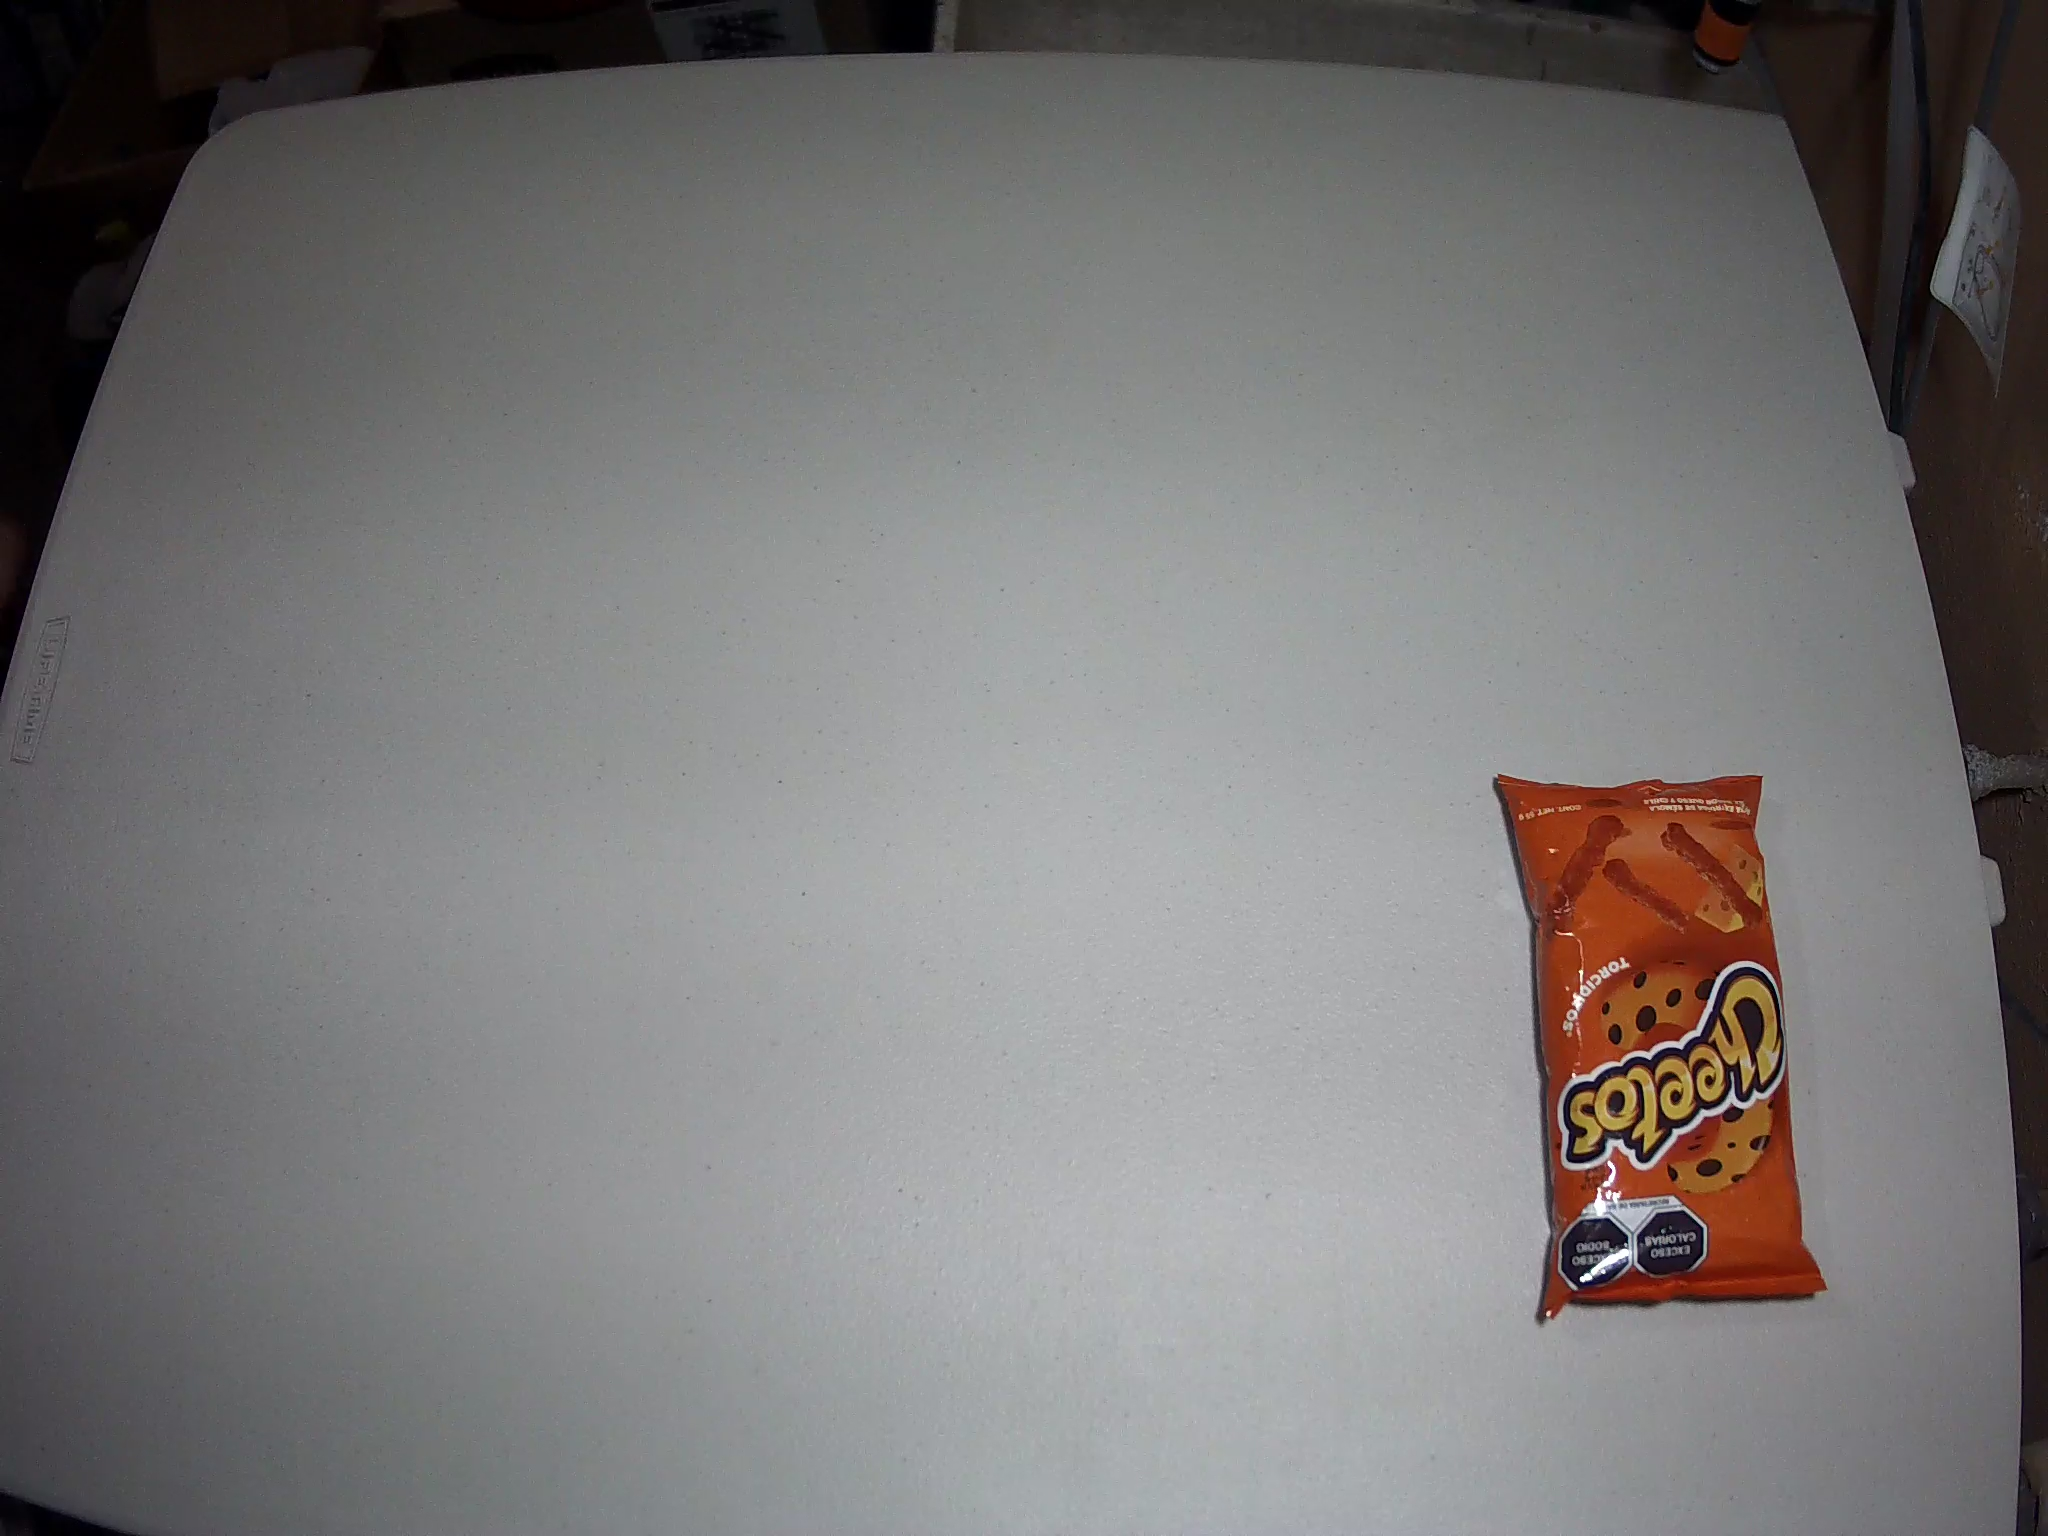CheetosTorciditos_55_F: (1490, 773, 1834, 1321)
